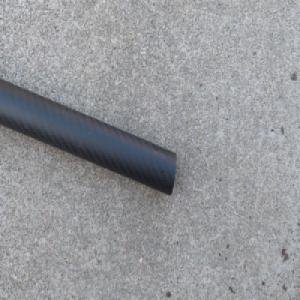LuggagePart: (0, 75, 178, 196)
